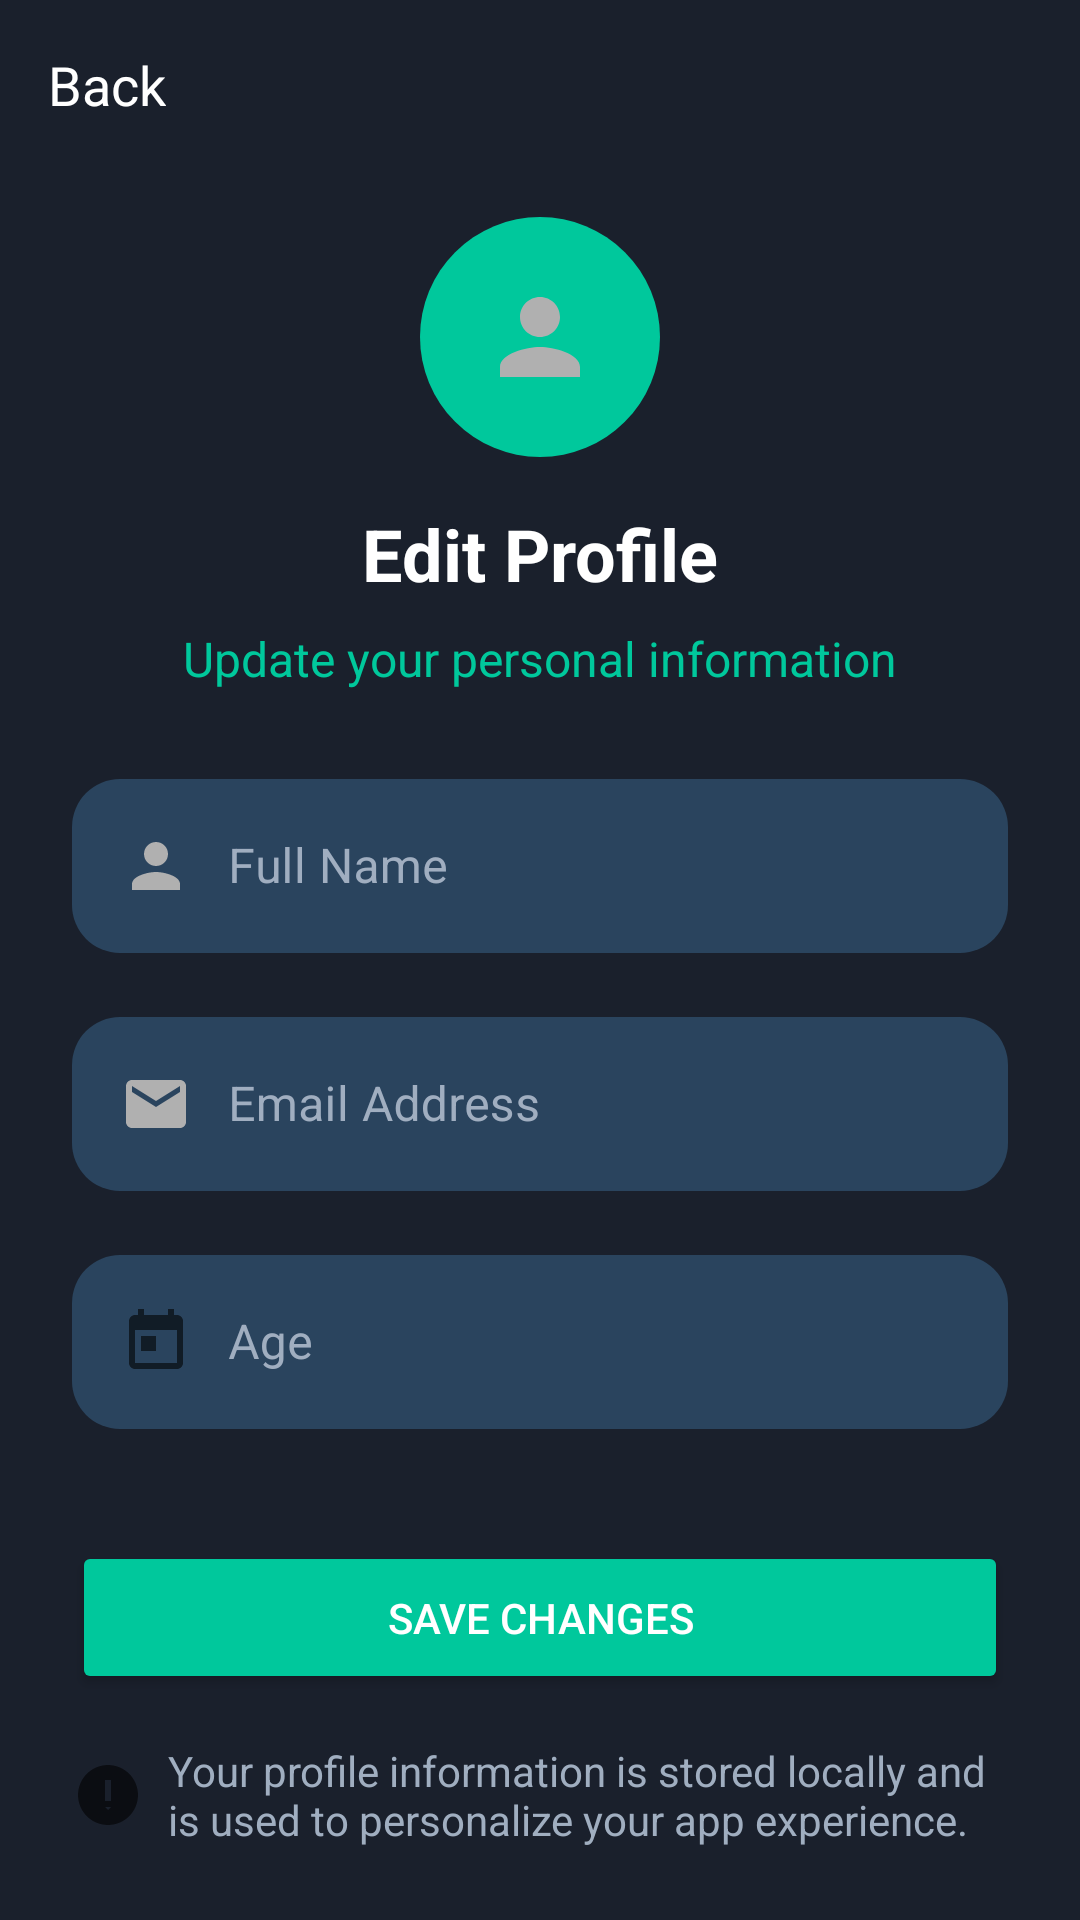

Icon bounding boxes for this 1080px x 1920px phone screenshot, format (x1, y1, x2, y2):
person: (420, 217, 660, 457)
